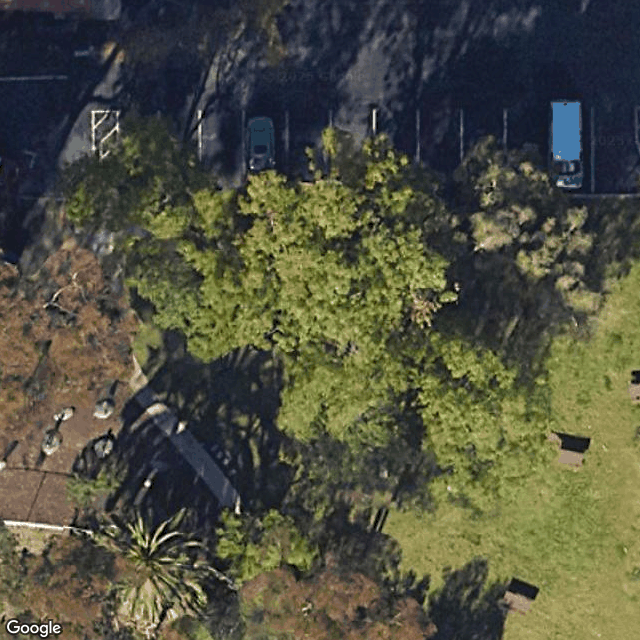palm: (83, 506, 236, 638)
